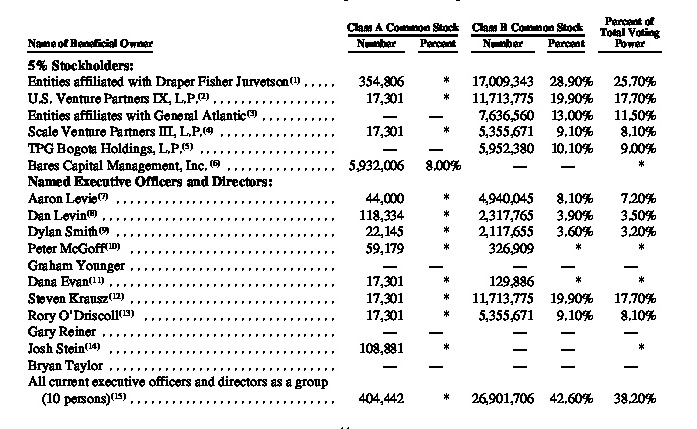table: (0, 0, 697, 429)
